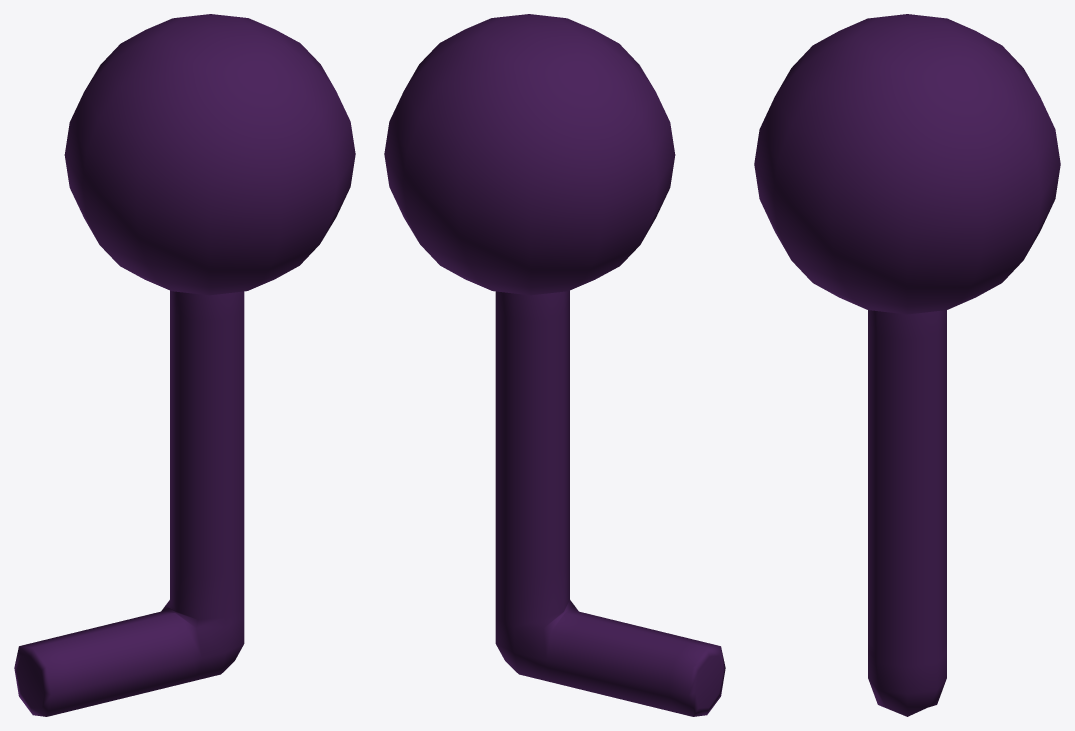
The model's file is handle.fbx.
The picture shows the model from 3 angles, left to right: view 1: azimuth 30°, elevation 25°; view 2: azimuth 150°, elevation 25°; view 3: azimuth 270°, elevation 25°; orthographic projection. The views are drawn at different scales.
Parts seen in each view (by area): view 1: Handle_Ball1; view 2: Handle_Ball1; view 3: Handle_Ball1.
Part boxes in pixels (box(x1,y1,x2,y2)): Handle_Ball1: box(14, 14, 355, 716); Handle_Ball1: box(384, 14, 725, 716); Handle_Ball1: box(754, 14, 1060, 716).
Size of the model in its own units: 0.0289 by 0.0577 by 0.0234.
